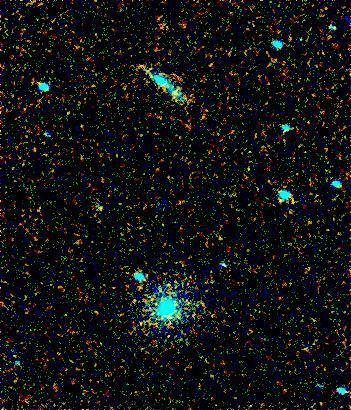star: (85, 193, 115, 223)
